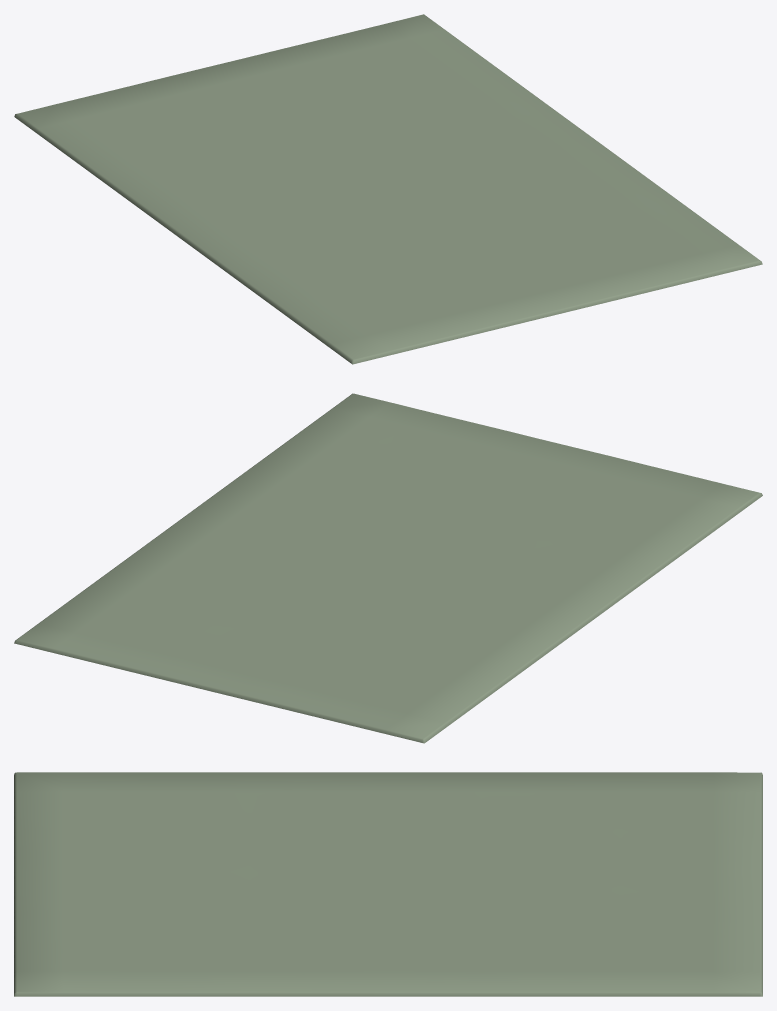
File: rug_3.glb
3 renders of one model, top to bottom at view 1: azimuth 30°, elevation 25°; view 2: azimuth 150°, elevation 25°; view 3: azimuth 270°, elevation 25°, orthographic. The views are drawn at different scales.
Visible parts, largest first — view 1: rug_v1; view 2: rug_v1; view 3: rug_v1.
Boxes of the visible parts, x1=… form: rug_v1: x1=14, y1=14, x2=762, y2=364; rug_v1: x1=14, y1=393, x2=762, y2=743; rug_v1: x1=14, y1=772, x2=762, y2=996.
Bounding box in the file's own units: 1.4 × 0.0127 × 2.
